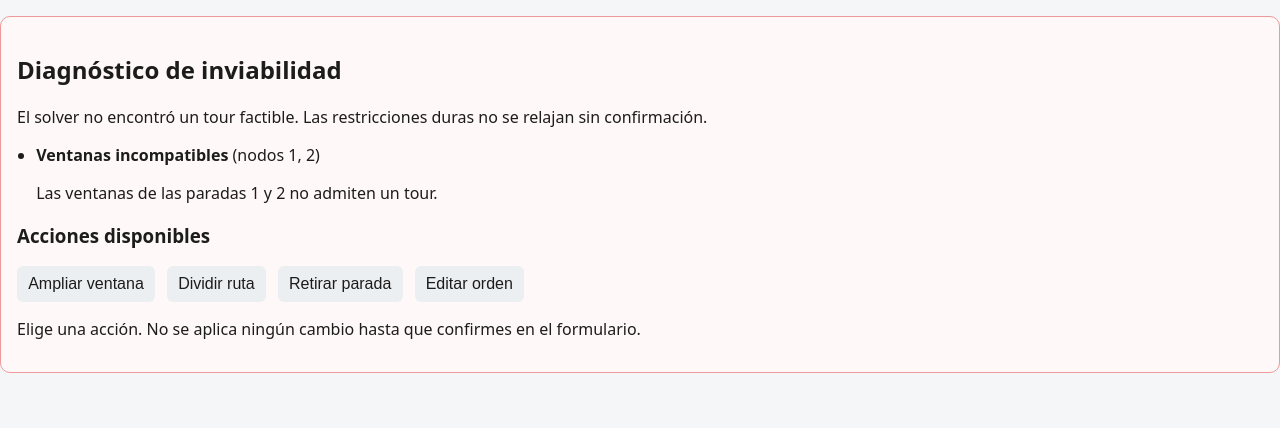
Test: RouteDiagnostics (3.FE.2) › lista las acciones de ventanas incompatibles sin aplicarlas solas
Expected: the list item with test id "optimizer-diagnostic-INCOMPATIBLE_WINDOWS" shows "Ventanas incompatibles", x1=36 y1=144 x2=228 y2=166
Expected: the button with test id "optimizer-action-edit-order" is enabled, x1=414 y1=266 x2=524 y2=302
Click the button with test id "optimizer-action-split-route" at (216, 284), box x1=167 y1=266 x2=266 y2=302
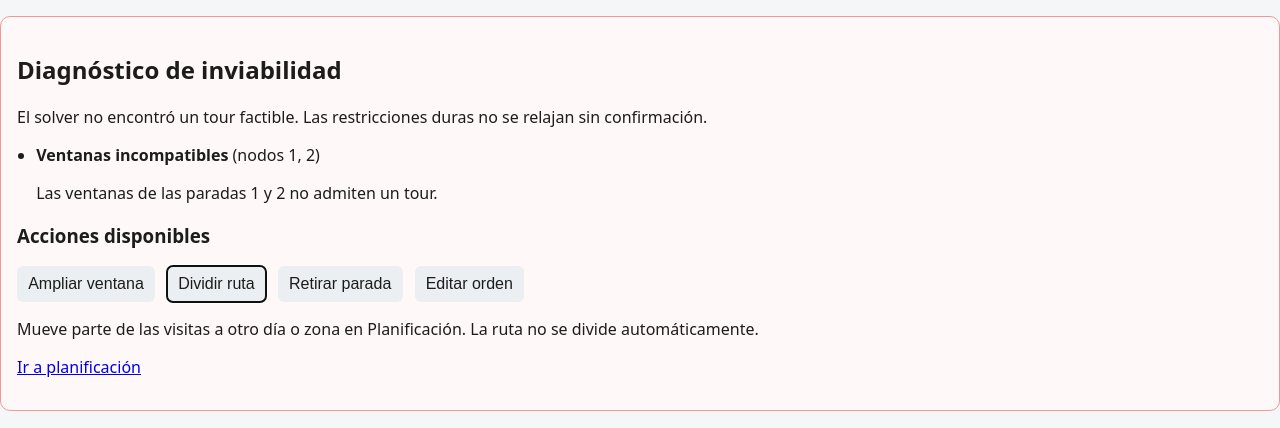
Now the text with test id "optimizer-action-hint" shows "no se divide automáticamente", box x1=17 y1=318 x2=759 y2=340
